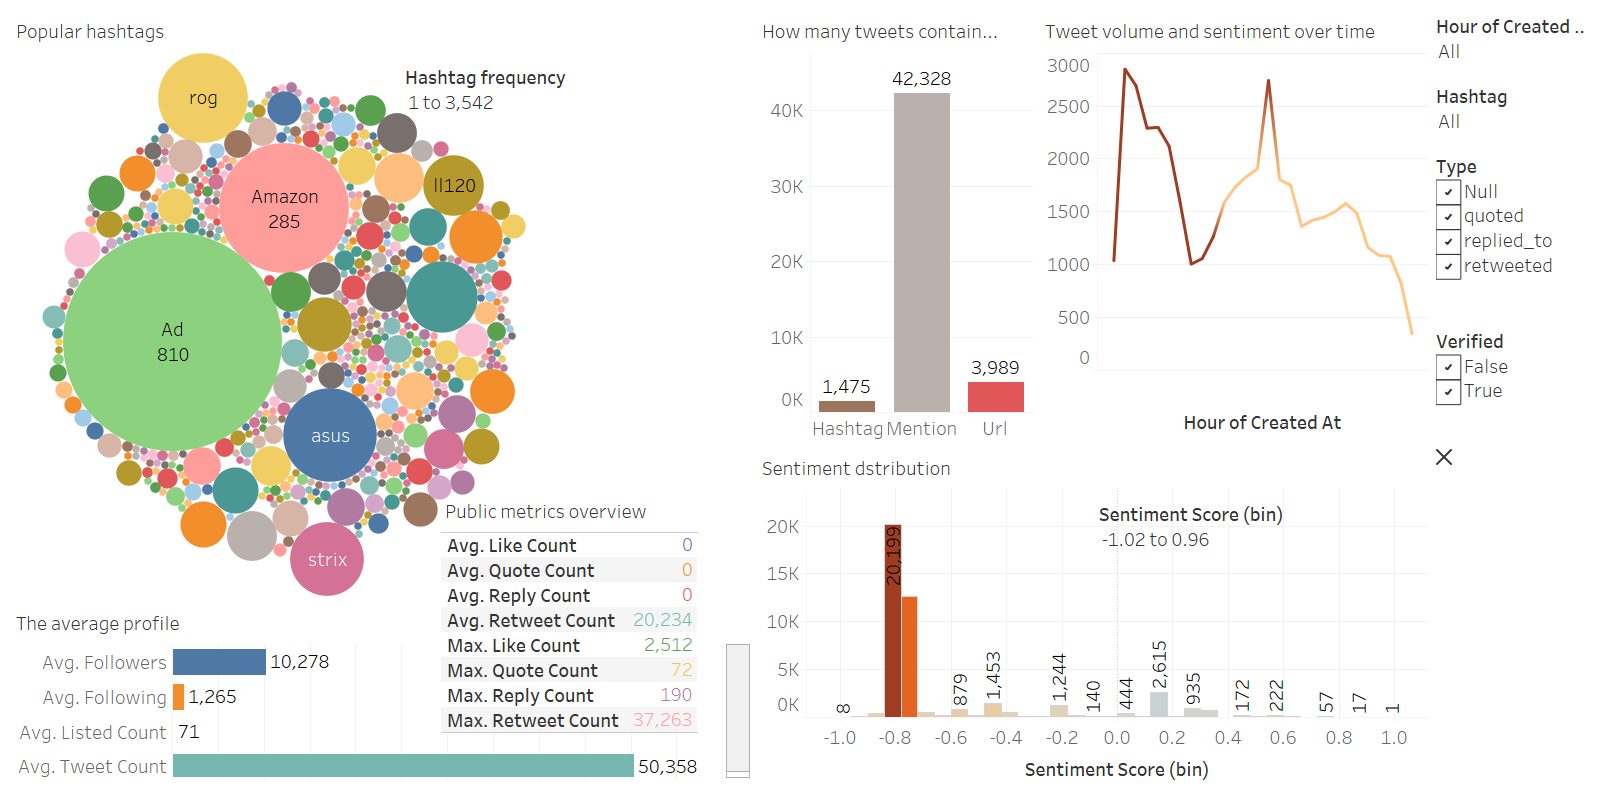

The dashboard page shown, as its layout file describes it:
{"tool":"tableau","page":{"name":"Dashboard 1","canvas":[1600,800],"ordinal":0},"visuals":[{"type":"worksheet","title":"Popular hashtags","mark":"Circle","box":[8,8,746,592]},{"type":"worksheet","title":"How many tweets contain...","mark":"Automatic","box":[754,8,283.1,437]},{"type":"worksheet","title":"Number of tweets by the hour","mark":"Automatic","rows":["tweet_id"],"cols":["created_at"],"box":[1037.1,8,394.9,437]},{"type":"filter","title":"Number of tweets by the hour","param":"[federated.120svys17vpkyz1bgdwsu1e14g30].[hr:created_at:ok]","box":[1432,8,160,70]},{"type":"filter","title":"Popular hashtags","param":"[federated.120svys17vpkyz1bgdwsu1e14g30].[__tableau_internal_object_id__].[cnt:H","box":[405,63,293,97]},{"type":"filter","title":"Popular hashtags","param":"[federated.120svys17vpkyz1bgdwsu1e14g30].[none:hashtag:nk]","box":[1432,78,160,70]},{"type":"filter","title":"How many tweets contain...","param":"[federated.120svys17vpkyz1bgdwsu1e14g30].[none:type:nk]","box":[1432,148,160,175]},{"type":"filter","title":"The average profile","param":"[federated.120svys17vpkyz1bgdwsu1e14g30].[none:verified:nk]","box":[1432,323,160,121]},{"type":"worksheet","title":"Sentiment dstribution","mark":"Automatic","rows":["sentiment_score"],"cols":["Sentiment Score (bin)"],"box":[754,445,678,347]},{"type":"dashboard-object","box":[1432,445,24,24]},{"type":"worksheet","title":"Public metrics overview","mark":"Automatic","box":[441,492,265,245]},{"type":"filter","title":"Sentiment dstribution","param":"[federated.120svys17vpkyz1bgdwsu1e14g30].[none:Sentiment Score (bin):qk]","box":[1099,500,239,77]},{"type":"worksheet","title":"The average profile","mark":"Automatic","box":[8,600,746,192]}]}

Visuals, with their boxes in screenshot pixels (x1, y1, x2, y2), scaled from the page's 1600x800 canvas onto the 1600x800 screenshot:
"Popular hashtags" worksheet (Circle marks): locate(8, 8, 754, 600)
"How many tweets contain..." worksheet: locate(754, 8, 1037, 445)
"Number of tweets by the hour" worksheet: locate(1037, 8, 1432, 445)
"Number of tweets by the hour" filter: locate(1432, 8, 1592, 78)
"Popular hashtags" filter: locate(405, 63, 698, 160)
"Popular hashtags" filter: locate(1432, 78, 1592, 148)
"How many tweets contain..." filter: locate(1432, 148, 1592, 323)
"The average profile" filter: locate(1432, 323, 1592, 444)
"Sentiment dstribution" worksheet: locate(754, 445, 1432, 792)
dashboard-object: locate(1432, 445, 1456, 469)
"Public metrics overview" worksheet: locate(441, 492, 706, 737)
"Sentiment dstribution" filter: locate(1099, 500, 1338, 577)
"The average profile" worksheet: locate(8, 600, 754, 792)
